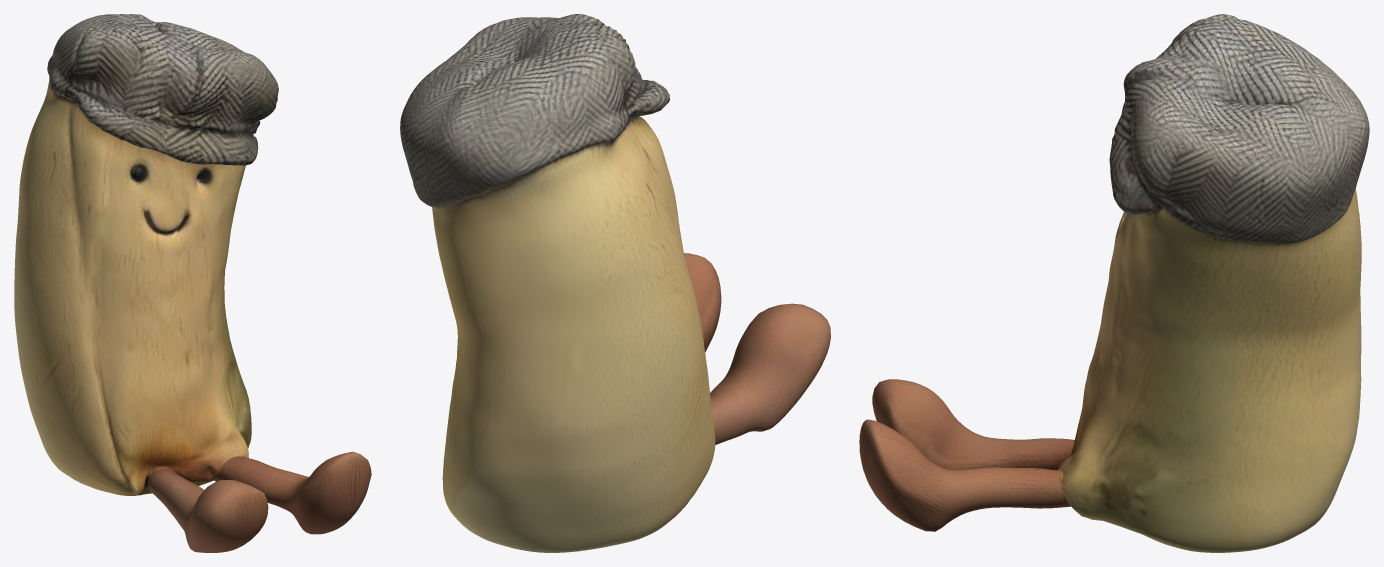
Rendered from chippy.glb.
3 renders of one model, left to right at view 1: azimuth 30°, elevation 25°; view 2: azimuth 150°, elevation 25°; view 3: azimuth 270°, elevation 25°, orthographic. The views are drawn at different scales.
Visible parts, largest first — view 1: Chippy; view 2: Chippy; view 3: Chippy.
Boxes of the visible parts, x1=… form: Chippy: x1=14, y1=14, x2=371, y2=552; Chippy: x1=400, y1=14, x2=830, y2=552; Chippy: x1=859, y1=14, x2=1369, y2=552.
Bounding box in the file's own units: 0.4078 × 0.75 × 0.7304.
Materials: 1 (1 with a texture image).
